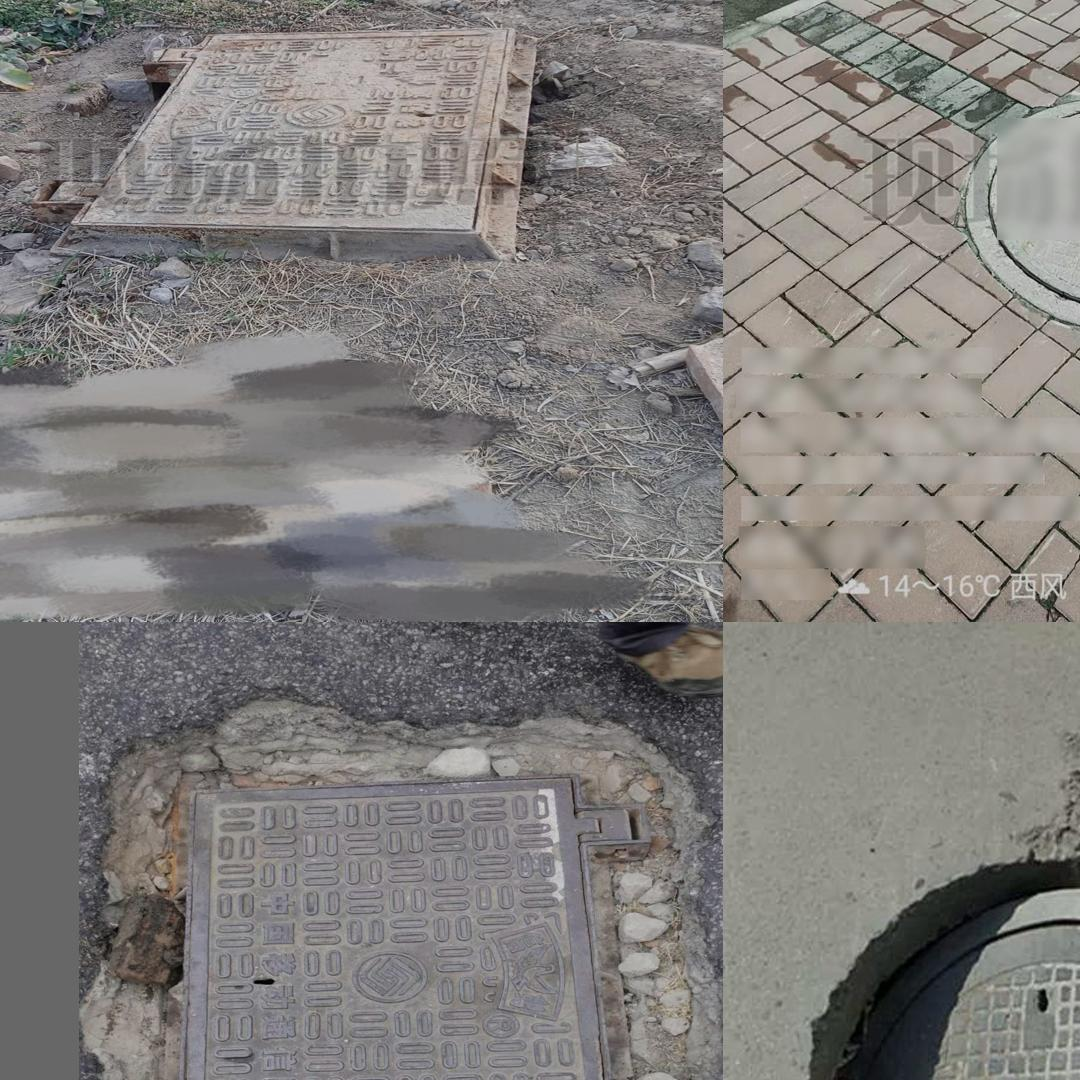circle: (112, 739, 702, 1080), (31, 20, 554, 266), (806, 688, 1080, 1080), (958, 97, 1080, 344)
